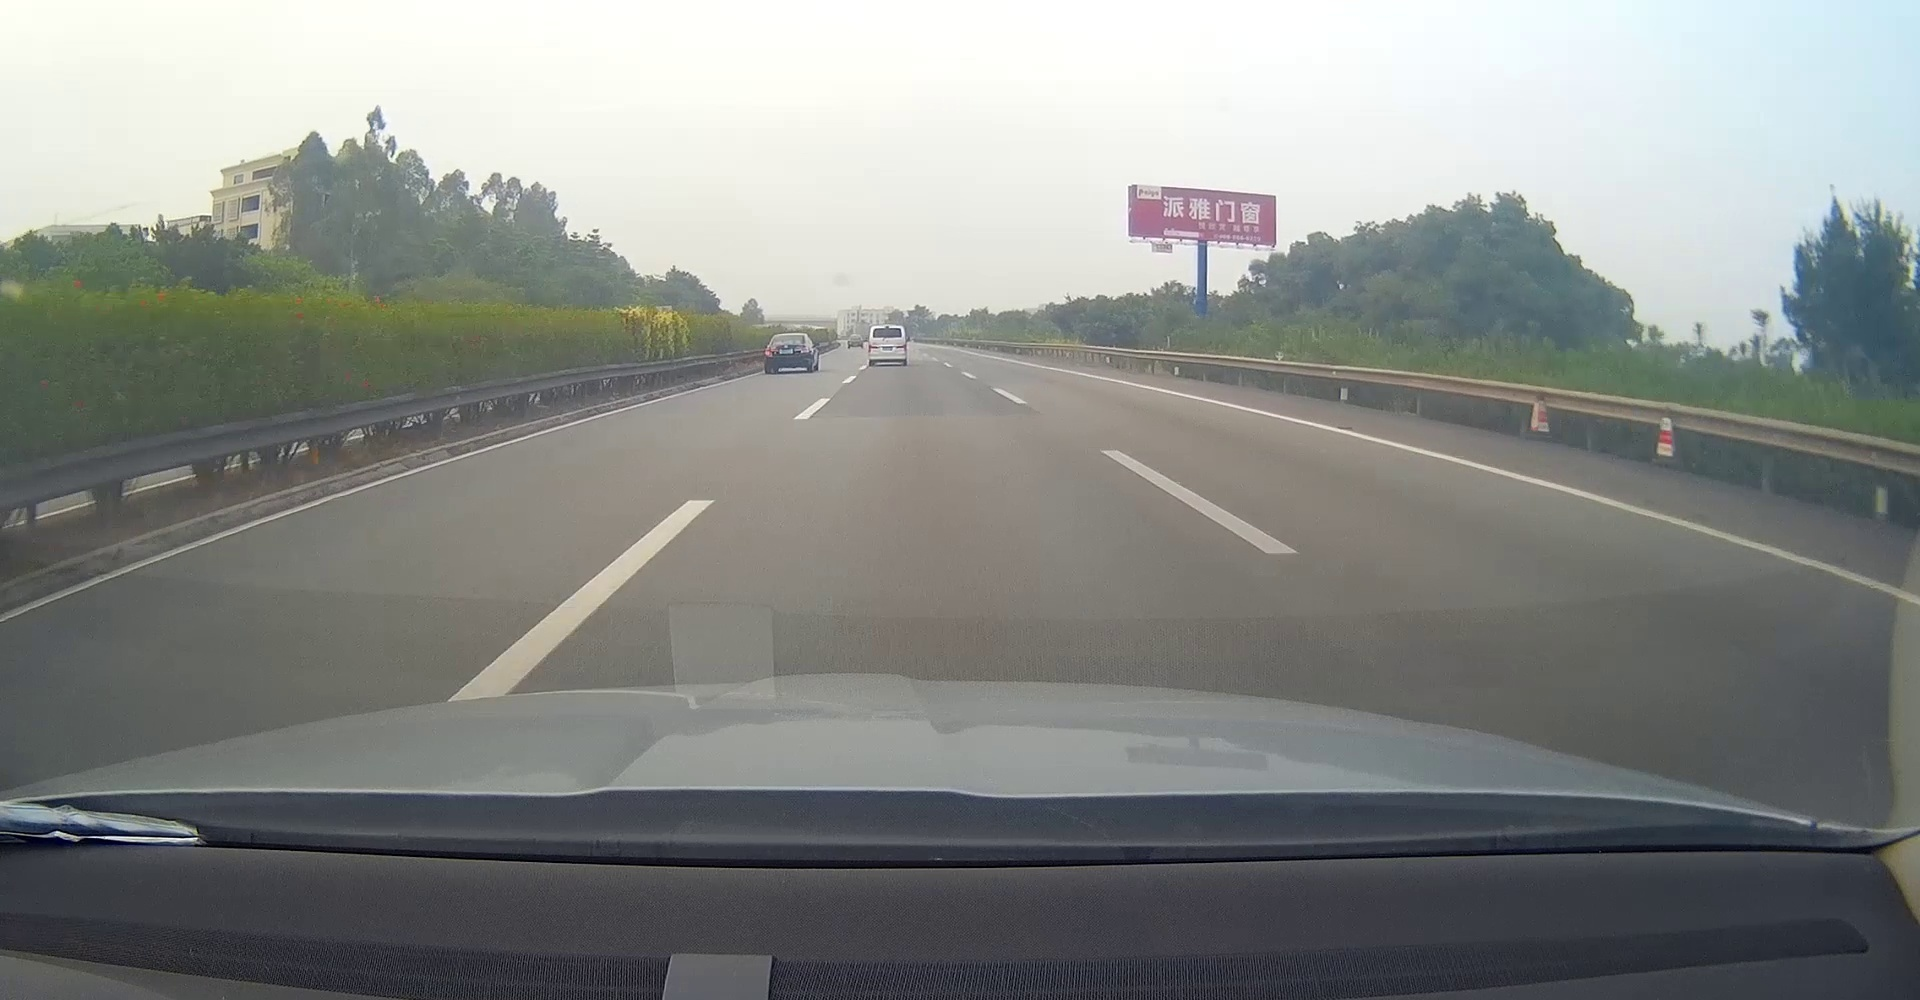L_light: (764, 349, 773, 358), (869, 344, 871, 353)
R_light: (800, 346, 810, 354), (904, 344, 905, 352)
T_light: (783, 334, 792, 336), (884, 327, 891, 330)
day-no: (764, 332, 813, 376), (867, 325, 907, 367)
